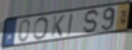0: (17, 19, 31, 44)
9: (101, 7, 116, 31)
I: (67, 12, 75, 37)
K: (50, 14, 66, 38)
O: (32, 16, 49, 41)
S: (82, 9, 101, 35)
